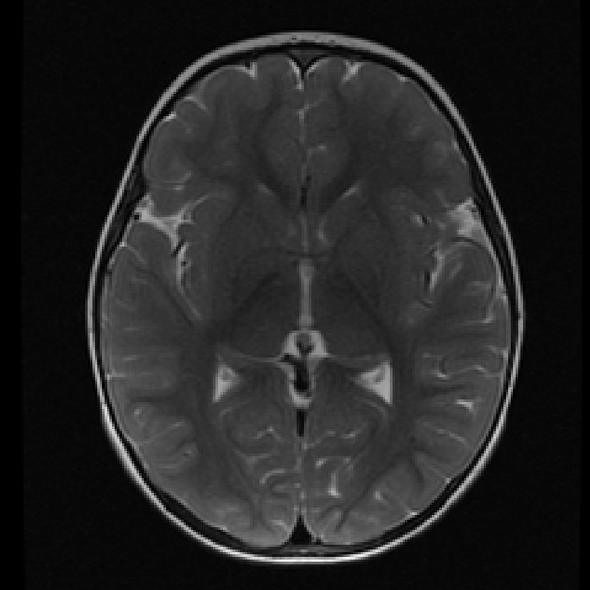Normal_Brain: (1, 1, 590, 590)
